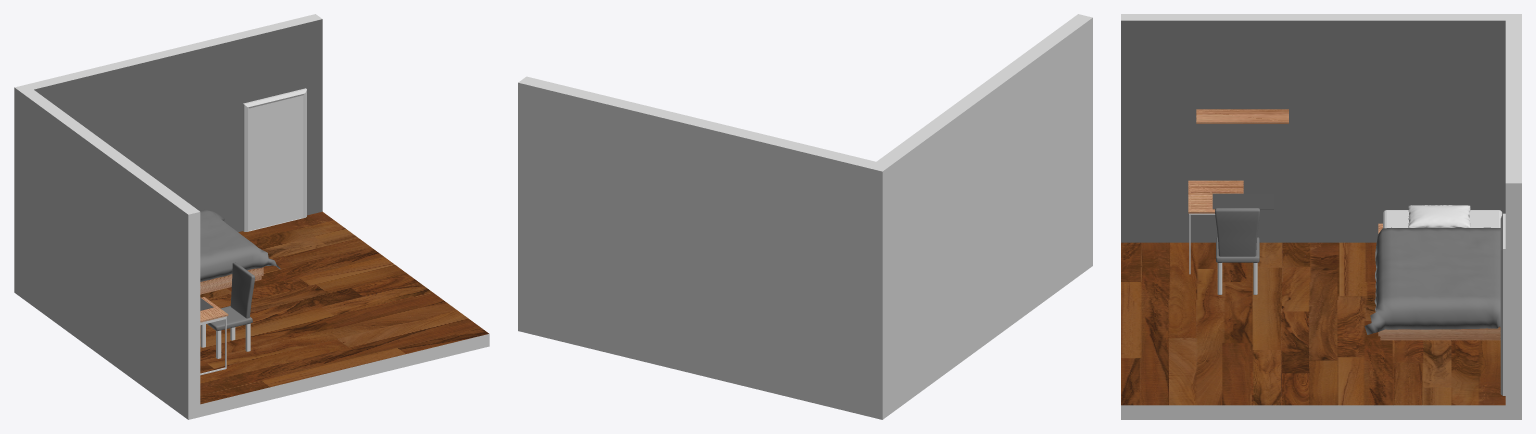
The model's file is Room.gltf.
3 views of the same model, side by side, from view 1: azimuth 30°, elevation 25°; view 2: azimuth 150°, elevation 25°; view 3: azimuth 270°, elevation 25° (orthographic). The views are drawn at different scales.
Visible parts, largest first — view 1: Room, Door, Blanked, Plane, Table, Bed; view 2: Room; view 3: Room, Blanked, Plane, Bed, Table, Pillow, Shelf, Door, Mattress, MousePad.
Boxes of the visible parts, bbox=[...] form: Room: bbox=[14, 14, 489, 419]; Door: bbox=[243, 88, 306, 231]; Blanked: bbox=[200, 209, 280, 281]; Plane: bbox=[200, 262, 254, 358]; Table: bbox=[200, 297, 228, 375]; Bed: bbox=[200, 267, 263, 294]; Room: bbox=[518, 14, 1092, 419]; Room: bbox=[1121, 14, 1521, 419]; Blanked: bbox=[1364, 227, 1500, 334]; Plane: bbox=[1215, 208, 1260, 294]; Bed: bbox=[1378, 223, 1500, 340]; Table: bbox=[1188, 180, 1243, 274]; Pillow: bbox=[1408, 205, 1470, 227]; Shelf: bbox=[1196, 109, 1288, 123]; Door: bbox=[1500, 213, 1505, 395]; Mattress: bbox=[1383, 210, 1502, 228]; MousePad: bbox=[1212, 193, 1273, 209].
Bounding box in the file's own units: 8.66 × 5.64 × 8.66.
Materials: 8 (2 with a texture image).
